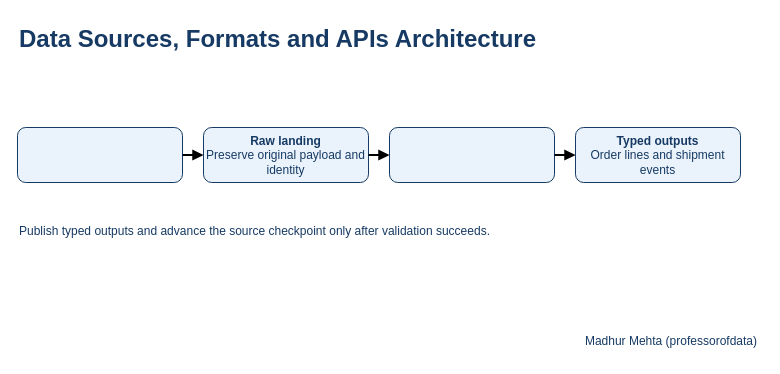
Some shapes in this 780 by 374 pixel diagram are drawn without their labels. Here are the shapes that lost their labels. From the top down, the centre of each, then its label:
the point at 99,154: Source feeds ERP SQL, warehouse CSV, carrier API
the point at 471,154: Validation Parse, reconcile and quarantine
